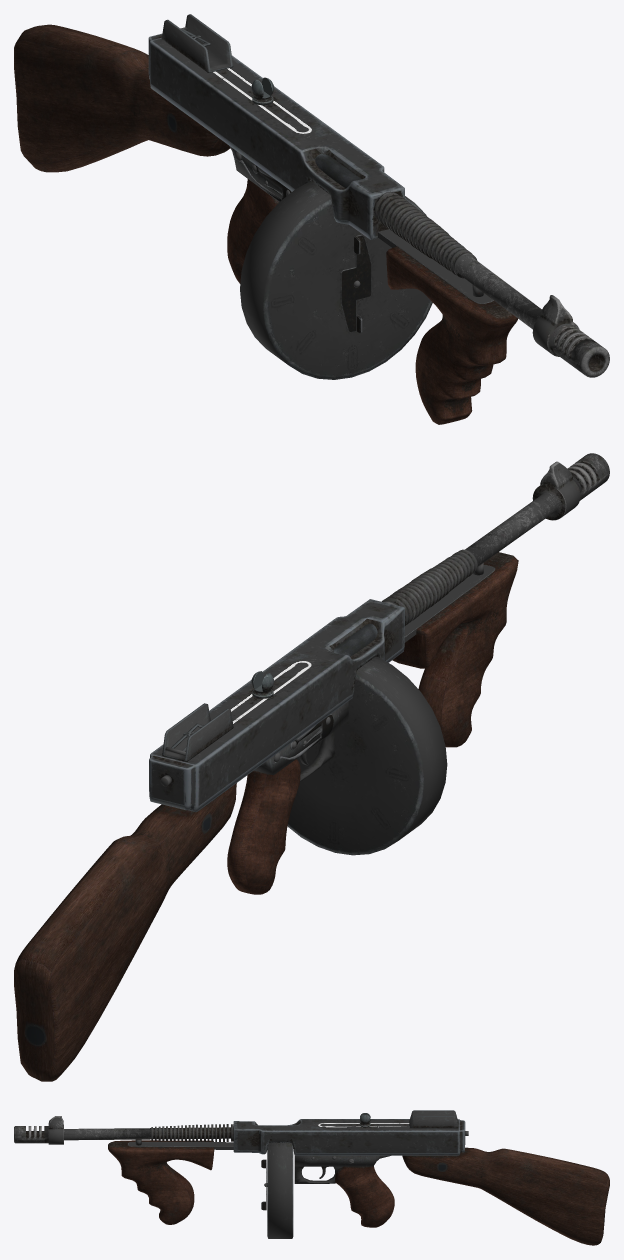
The picture shows the model from 3 angles, top to bottom: view 1: azimuth 30°, elevation 25°; view 2: azimuth 150°, elevation 25°; view 3: azimuth 270°, elevation 25°; orthographic projection. The views are drawn at different scales.
Visible parts, largest first — view 1: Body_Material_006, Body_Material_001, Body_Material_005, Body_Material_003, Body_Material_004, Body_Material_013, Body_Material_014, Body_Material_002, Body_Material_015, Body_Material_007; view 2: Body_Material_001, Body_Material_006, Body_Material_005, Body_Material_003, Body_Material_004, Body_Material_002, Body_Material_014, Body_Material_007, Body_Material_013, Body_Material_015; view 3: Body_Material_001, Body_Material_005, Body_Material_003, Body_Material_004, Body_Material_006, Body_Material_002, Body_Material_007, Body_Material_014, Body_Material_015.
Part boxes in pixels (x1,y1,x2,y2): Body_Material_006: [240, 181, 432, 379]; Body_Material_001: [14, 24, 230, 172]; Body_Material_005: [148, 33, 404, 239]; Body_Material_003: [386, 246, 517, 424]; Body_Material_004: [373, 191, 609, 377]; Body_Material_013: [239, 154, 371, 332]; Body_Material_014: [161, 14, 233, 72]; Body_Material_002: [227, 179, 278, 283]; Body_Material_015: [378, 229, 493, 303]; Body_Material_007: [229, 146, 281, 201]; Body_Material_001: [14, 783, 236, 1081]; Body_Material_006: [287, 656, 447, 855]; Body_Material_005: [149, 599, 404, 812]; Body_Material_003: [392, 552, 518, 747]; Body_Material_004: [382, 453, 609, 625]; Body_Material_002: [227, 759, 300, 894]; Body_Material_014: [162, 703, 233, 761]; Body_Material_007: [254, 701, 348, 781]; Body_Material_013: [274, 623, 377, 762]; Body_Material_015: [404, 565, 495, 642]; Body_Material_001: [402, 1147, 609, 1245]; Body_Material_005: [233, 1119, 465, 1155]; Body_Material_003: [108, 1140, 214, 1224]; Body_Material_004: [14, 1116, 233, 1144]; Body_Material_006: [267, 1142, 293, 1238]; Body_Material_002: [335, 1166, 394, 1227]; Body_Material_007: [294, 1155, 390, 1183]; Body_Material_014: [409, 1110, 458, 1128]; Body_Material_015: [127, 1142, 233, 1149].
Bounding box in the file's own units: 0.1562 × 0.2082 × 0.86.
Materials: 12 (12 with a texture image).
